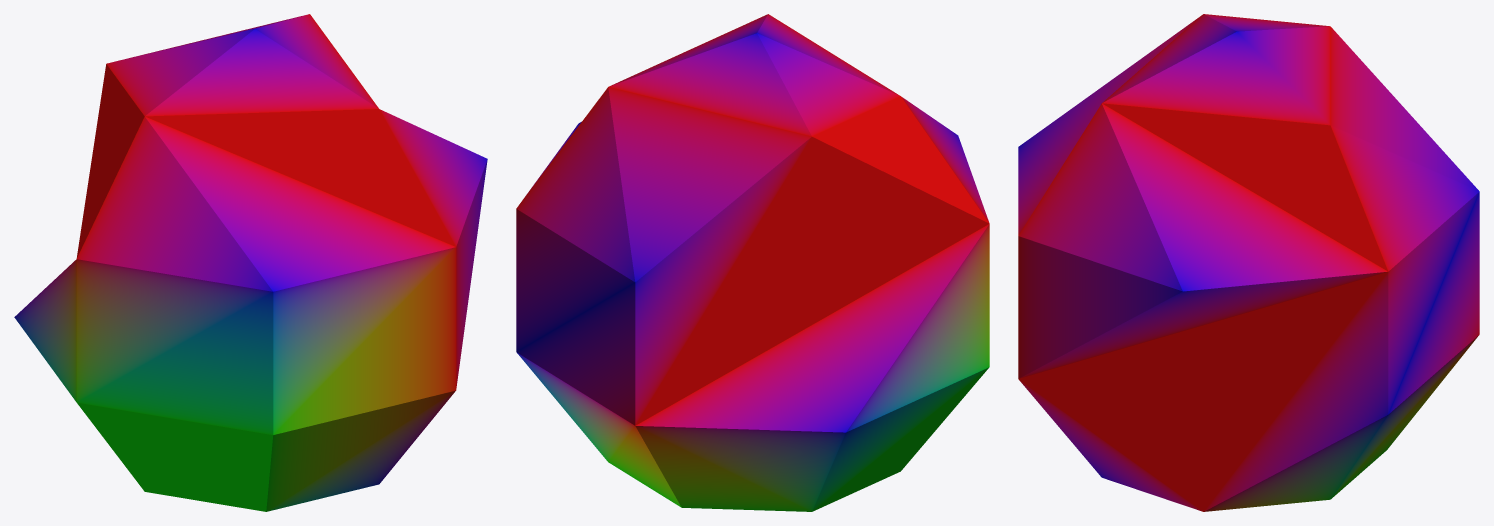
Rendered from after_retriangulation_type_colored_4.obj.
3 views of the same model, side by side, from view 1: azimuth 30°, elevation 25°; view 2: azimuth 150°, elevation 25°; view 3: azimuth 270°, elevation 25° (orthographic).
Size of the model in its own units: 1.85 by 2 by 1.81.
